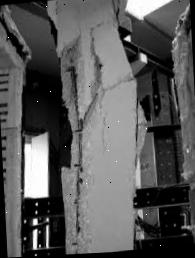spalling: (58, 34, 105, 255)
